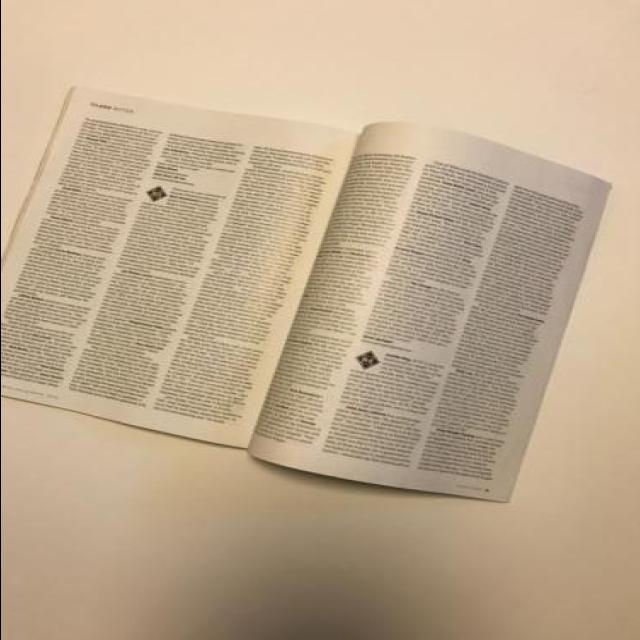kertas: (0, 85, 614, 505)
